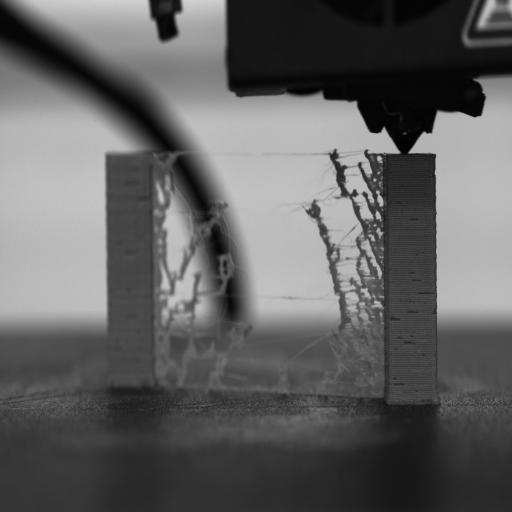spaghetti_and_stringing: (150, 153, 245, 389)
